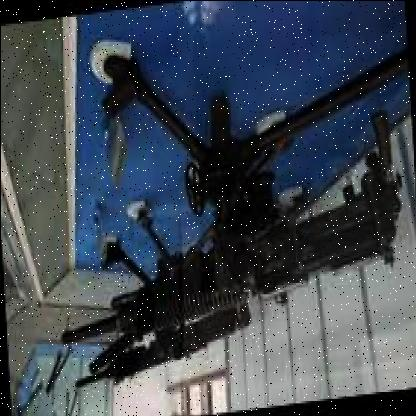rifle: (47, 186, 404, 348)
